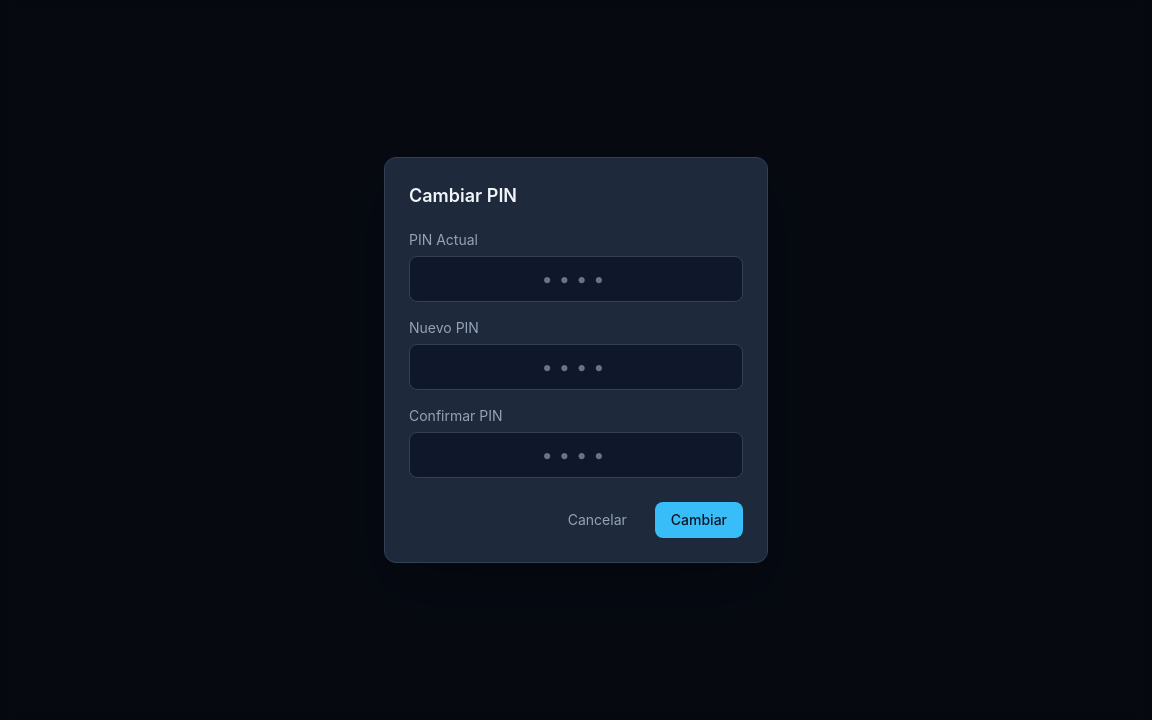
Scenario: PinDialog — change mode (Req 2.6) › should show error when current PIN is empty
The width and height of the screenshot is (1152, 720).
Type "1234" into the password field with test id "pin-input-new" at (576, 367), box [409, 344, 743, 390]
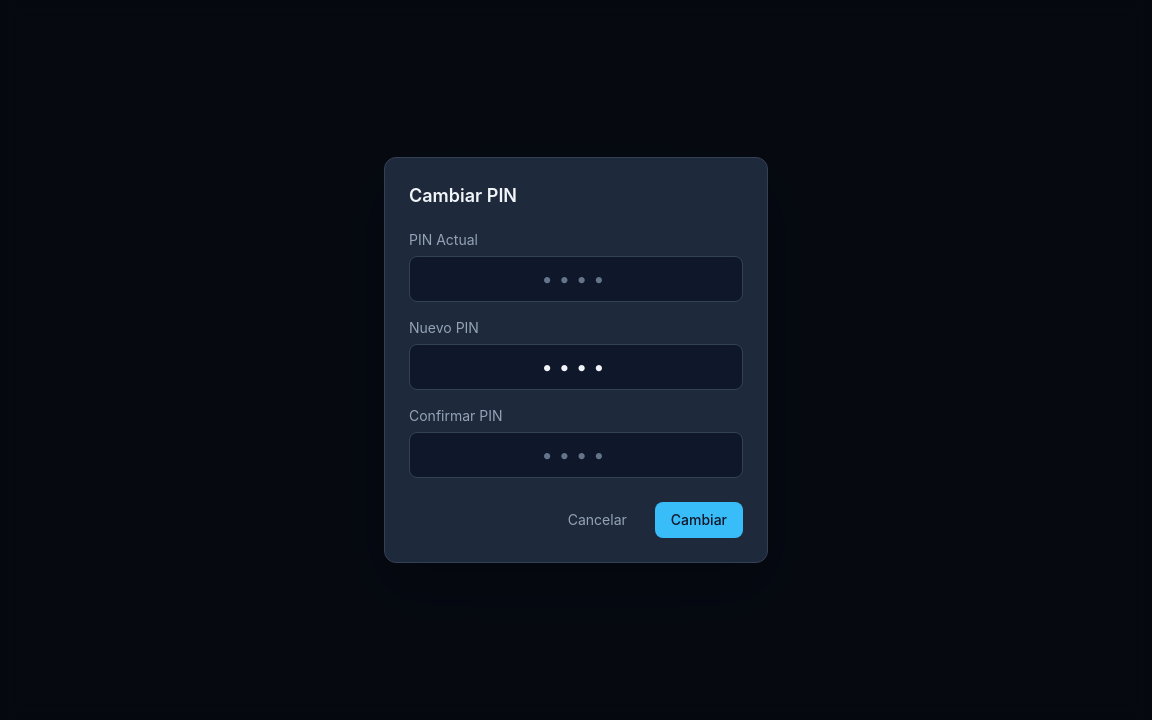
Type "1234" into the password field with test id "pin-input-confirm" at (576, 455), box [409, 432, 743, 478]
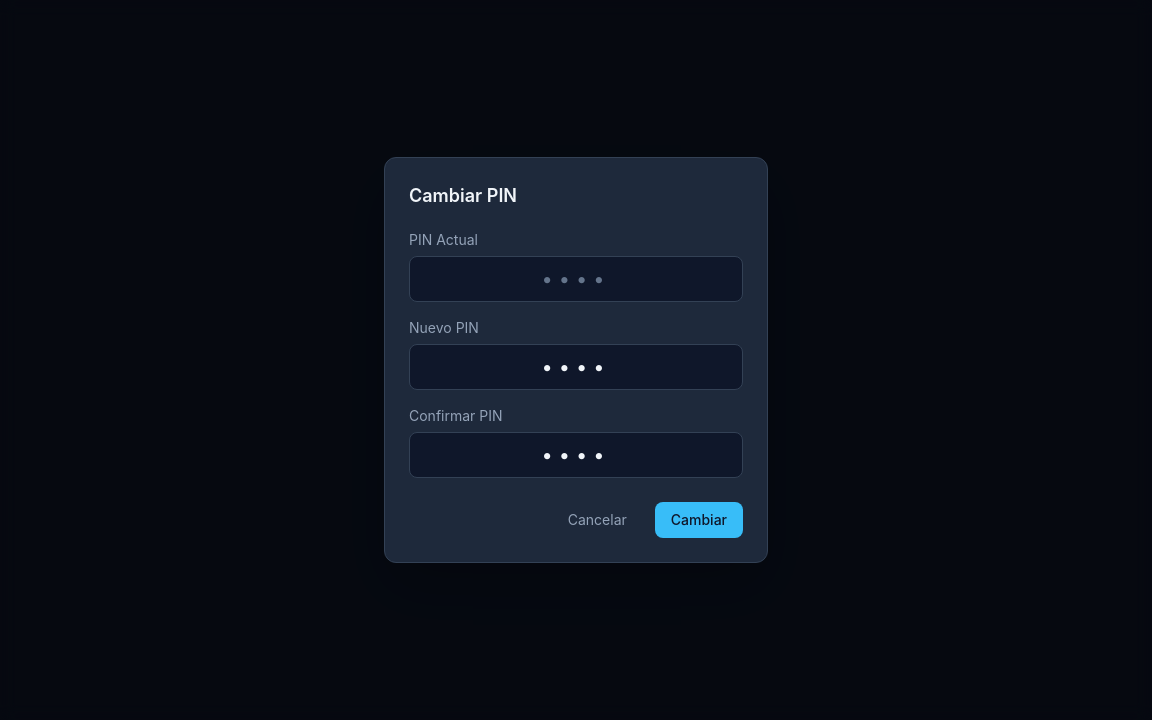
Click the button with test id "pin-dialog-submit" at (699, 520), box [655, 502, 743, 538]
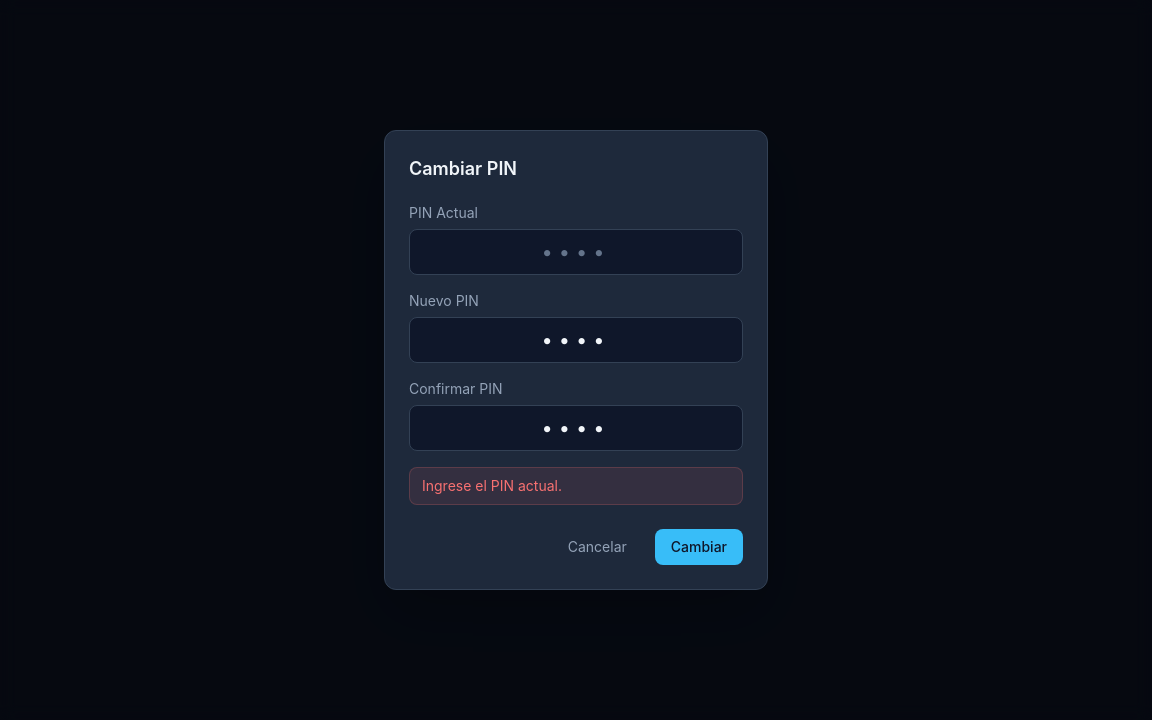
Expected: the message with test id "pin-dialog-error" reads "Ingrese el PIN actual.", [422, 477, 562, 494]
